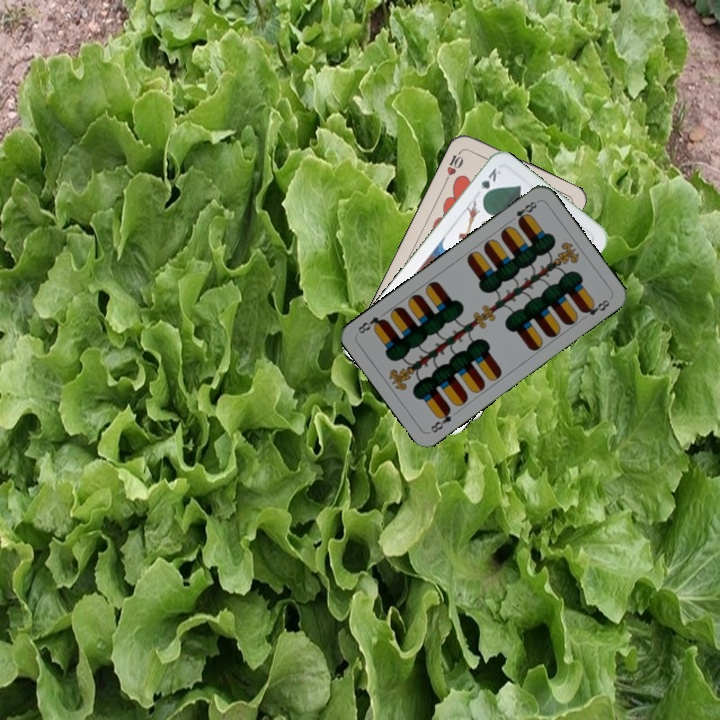E8: (511, 197, 541, 226), (426, 404, 454, 435)
GK: (477, 163, 503, 201)
H10: (441, 146, 466, 184)
